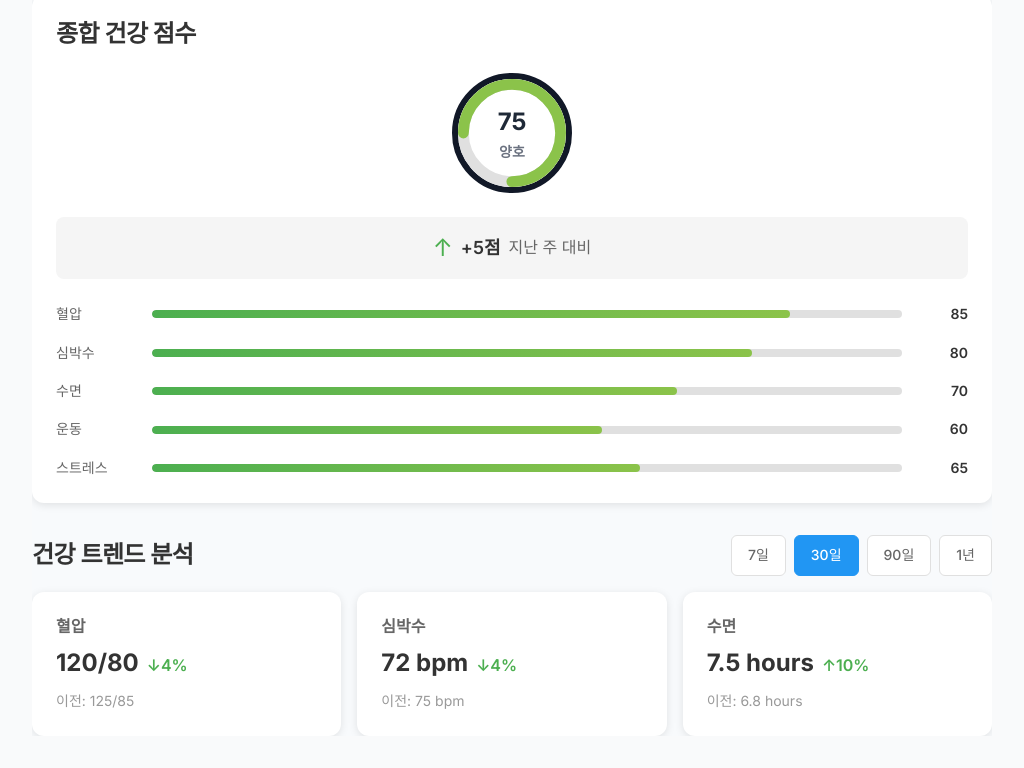
it: AIInsightsDashboard › User Interaction Tests › changes period filter when filter button is clicked
The width and height of the screenshot is (1024, 768).
(page scrolled)
Click 7-day filter
Click the button "7일" at point(758, 555), box [731, 535, 786, 576]
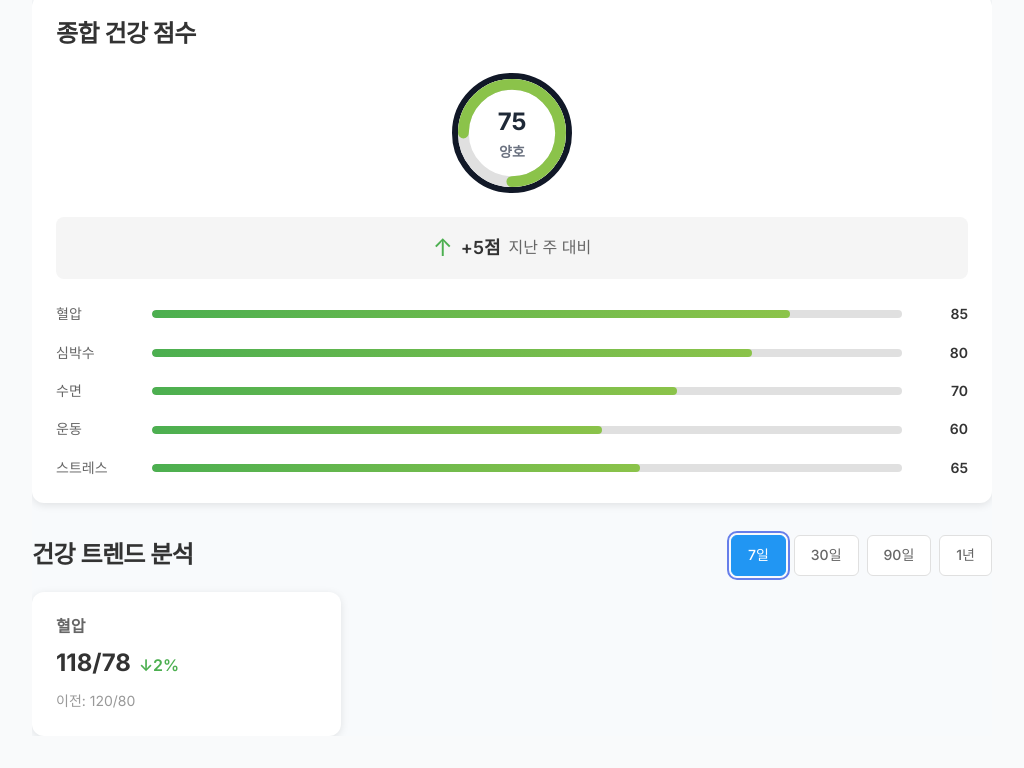
Check: the text "118/78" is shown, box [56, 644, 131, 682]
